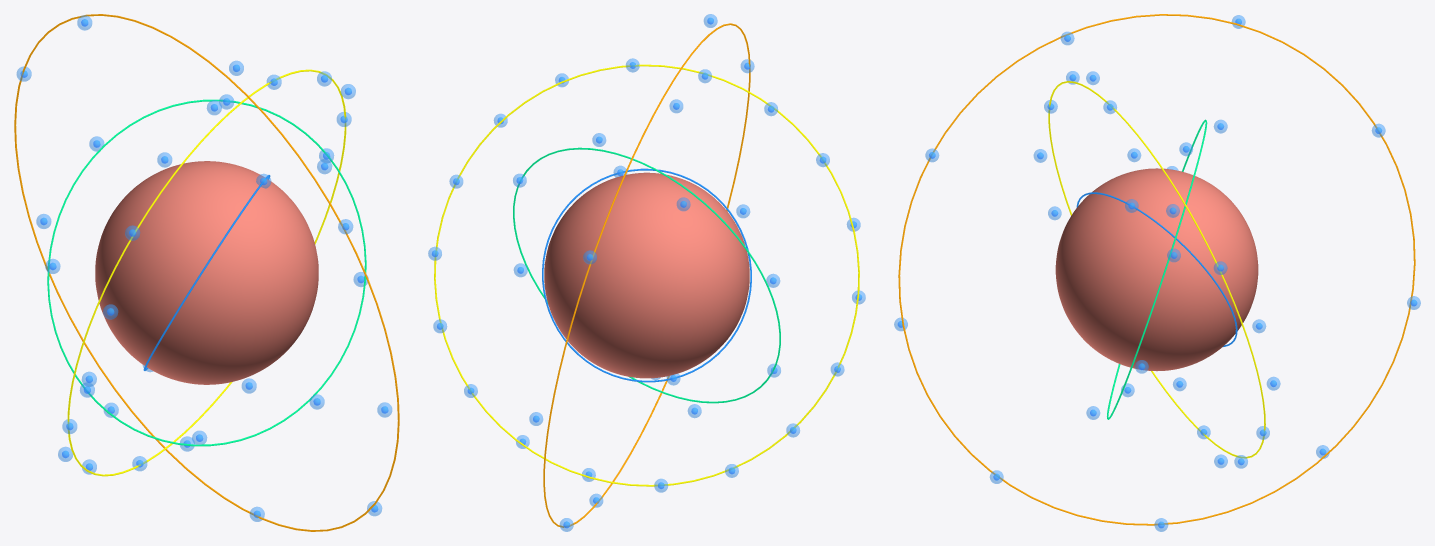
The picture shows the model from 3 angles, left to right: view 1: azimuth 30°, elevation 25°; view 2: azimuth 150°, elevation 25°; view 3: azimuth 270°, elevation 25°; orthographic projection. The views are drawn at different scales.
Parts seen in each view (by area): view 1: Rb, object 61, object 7, object 24, object 2; view 2: Rb, object 24, object 61, object 7, object 2; view 3: Rb, object 61, object 24, object 7.
Boxes of the visible parts, x1=… form: Rb: x1=95, y1=161, x2=318, y2=384; object 61: x1=14, y1=14, x2=399, y2=531; object 7: x1=47, y1=99, x2=366, y2=446; object 24: x1=67, y1=69, x2=346, y2=476; object 2: x1=143, y1=175, x2=270, y2=370; Rb: x1=544, y1=172, x2=749, y2=378; object 24: x1=434, y1=64, x2=859, y2=486; object 61: x1=543, y1=23, x2=750, y2=527; object 7: x1=513, y1=147, x2=780, y2=403; object 2: x1=542, y1=168, x2=751, y2=382; Rb: x1=1055, y1=168, x2=1258, y2=371; object 61: x1=898, y1=14, x2=1415, y2=525; object 24: x1=1048, y1=81, x2=1265, y2=458; object 7: x1=1107, y1=119, x2=1207, y2=419.
Size of the model in its own units: 4.35 by 5.96 by 6.04.
